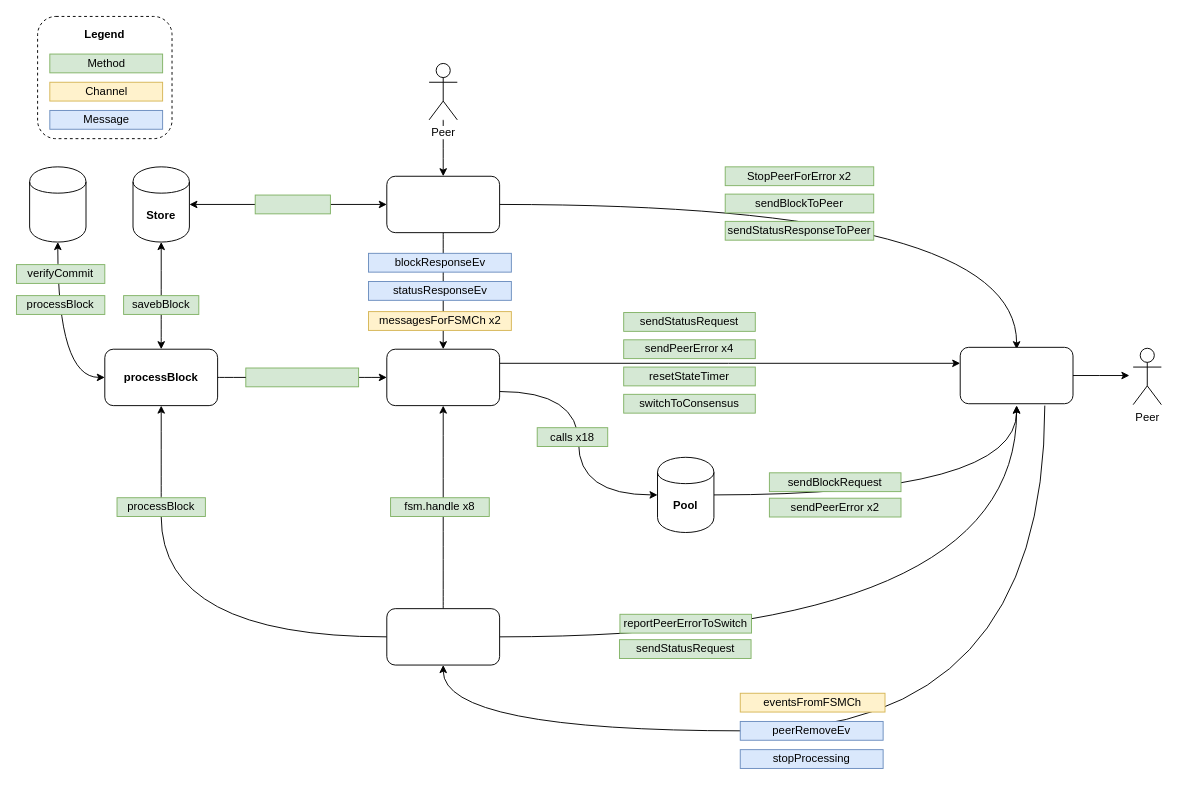
The diagram is 1178 pixels wide and 785 high, and some of its shapes have lost their labels. The box of each missing label's shape, as (x1, y1, x2, y2) in pixels:
Block State: (29, 166, 86, 242)
FirstTwoBlocks: (245, 367, 359, 387)
FSM: (386, 348, 500, 406)
loadBlock: (254, 194, 330, 214)
poolRoutine: (386, 608, 500, 665)
Reactor: (959, 346, 1073, 404)
Receive: (386, 175, 500, 233)
